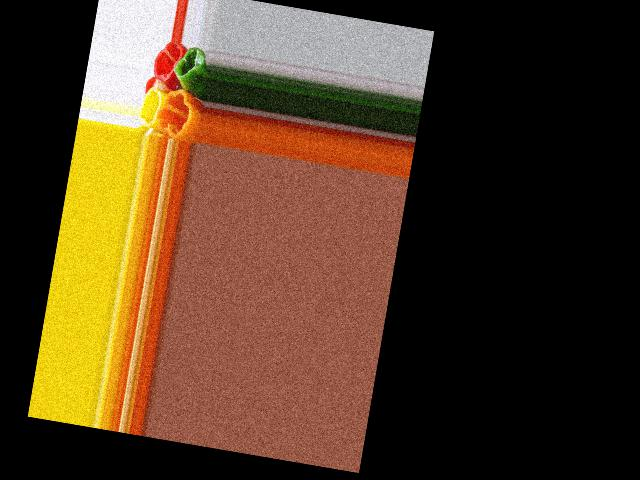bell_pepper: (150, 41, 182, 84)
